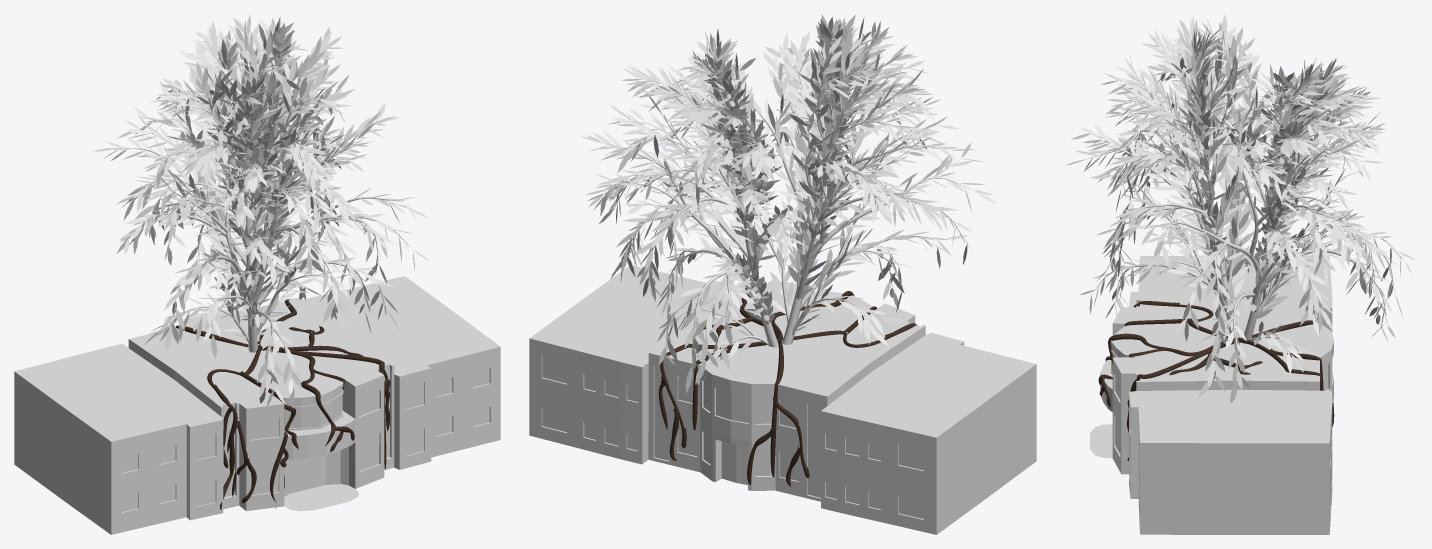
Rendered from Constant Hall.fbx.
3 views of the same model, side by side, from view 1: azimuth 30°, elevation 25°; view 2: azimuth 150°, elevation 25°; view 3: azimuth 270°, elevation 25° (orthographic). The views are drawn at different scales.
Parts seen in each view (by area): view 1: Plane, leaves, tree, Roots; view 2: Plane, leaves, tree, Roots; view 3: leaves, Plane, tree, Roots.
Part boxes in pixels (x1,y1,x2,y2): Plane: (14,276,500,534); leaves: (93,15,428,405); tree: (129,44,411,387); Roots: (176,299,390,509); Plane: (529,265,1036,534); leaves: (580,14,996,400); tree: (604,44,973,364); Roots: (658,288,917,486); leaves: (1066,14,1416,402); Plane: (1090,255,1333,534); tree: (1088,39,1404,363); Roots: (1098,301,1334,460).
Bounding box in the file's own units: 658 × 669 × 522.
